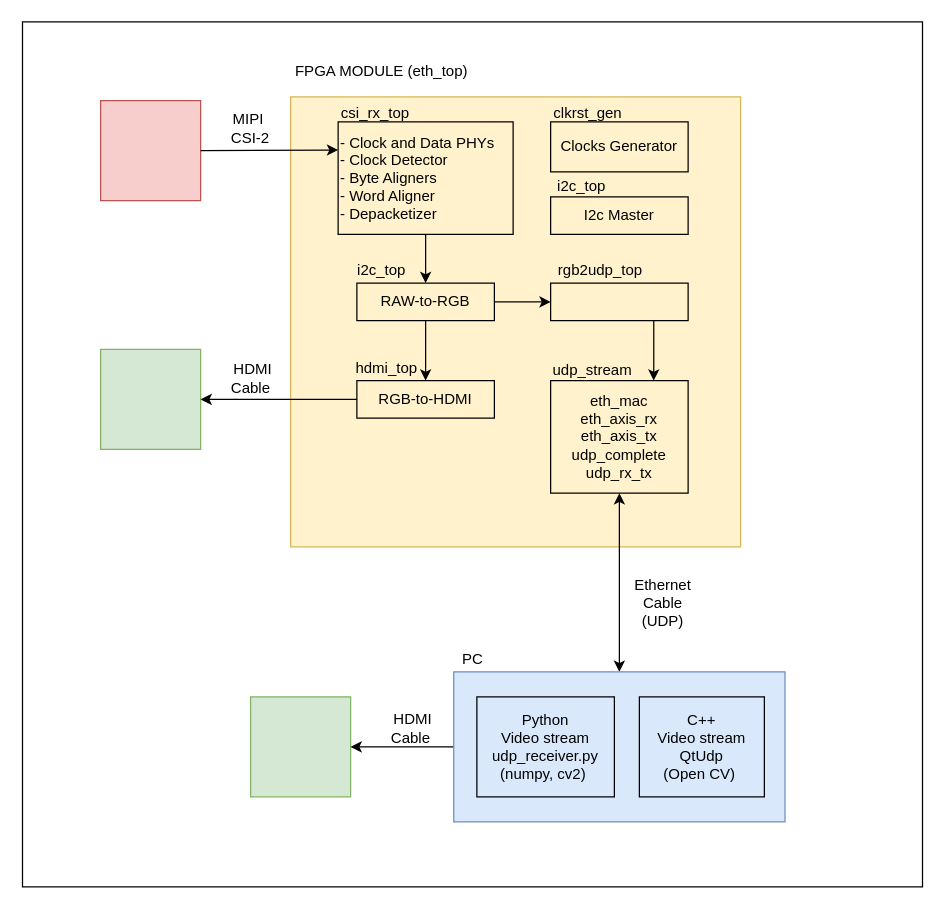
Some shapes in this 944 by 909 pixel diagram are drawn without their labels. The shapes that lost their labels are listed below. From the top down, each one's centre as x and y in pixels, then its label:
At (x=150, y=150): "CMOS Camera".
At (x=618, y=301): "RGB-to-UDP".
At (x=150, y=398): "Display 1".
At (x=300, y=746): "Display 2".
